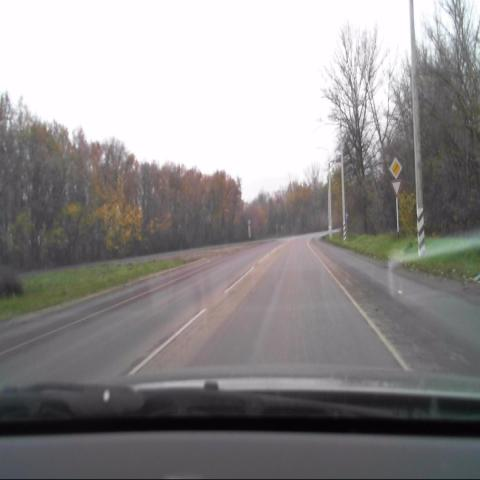2_2: (388, 157, 402, 179)
